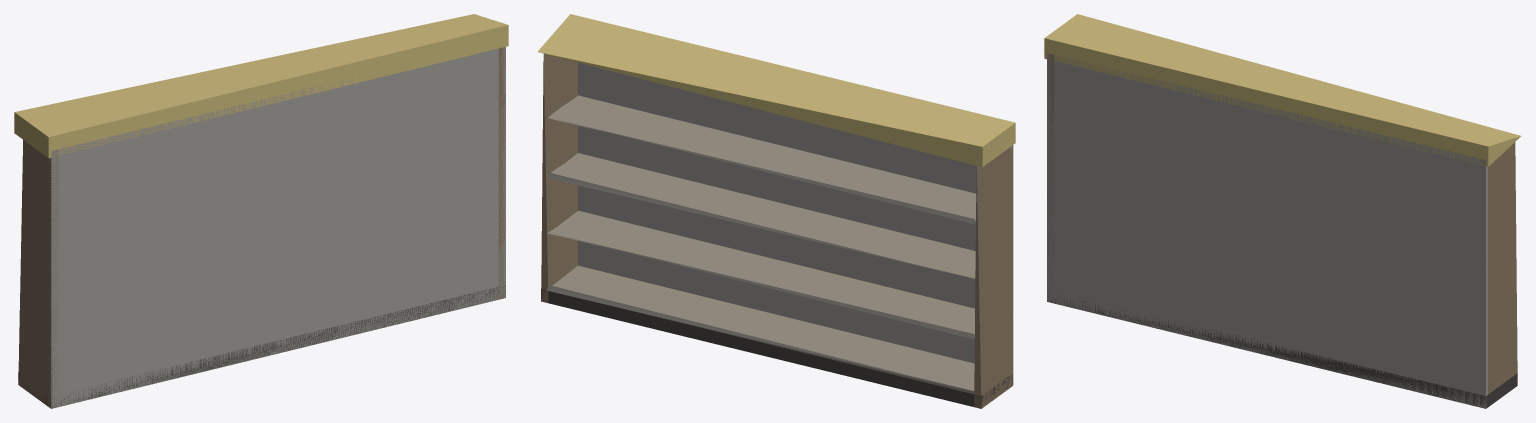
The model's file is mall_wall_shelf_low.glb.
3 views of the same model, side by side, from view 1: azimuth 30°, elevation 25°; view 2: azimuth 150°, elevation 25°; view 3: azimuth 330°, elevation 25° (orthographic). The views are drawn at different scales.
Parts seen in each view (by area): view 1: mall.wall_shelf; view 2: mall.wall_shelf; view 3: mall.wall_shelf.
Boxes of the visible parts, left/top/right/bottom form: mall.wall_shelf: left=14, top=14, right=508, bottom=408; mall.wall_shelf: left=537, top=14, right=1015, bottom=408; mall.wall_shelf: left=1044, top=14, right=1520, bottom=408.
Bounding box in the file's own units: 3.64 × 2.06 × 0.47.
